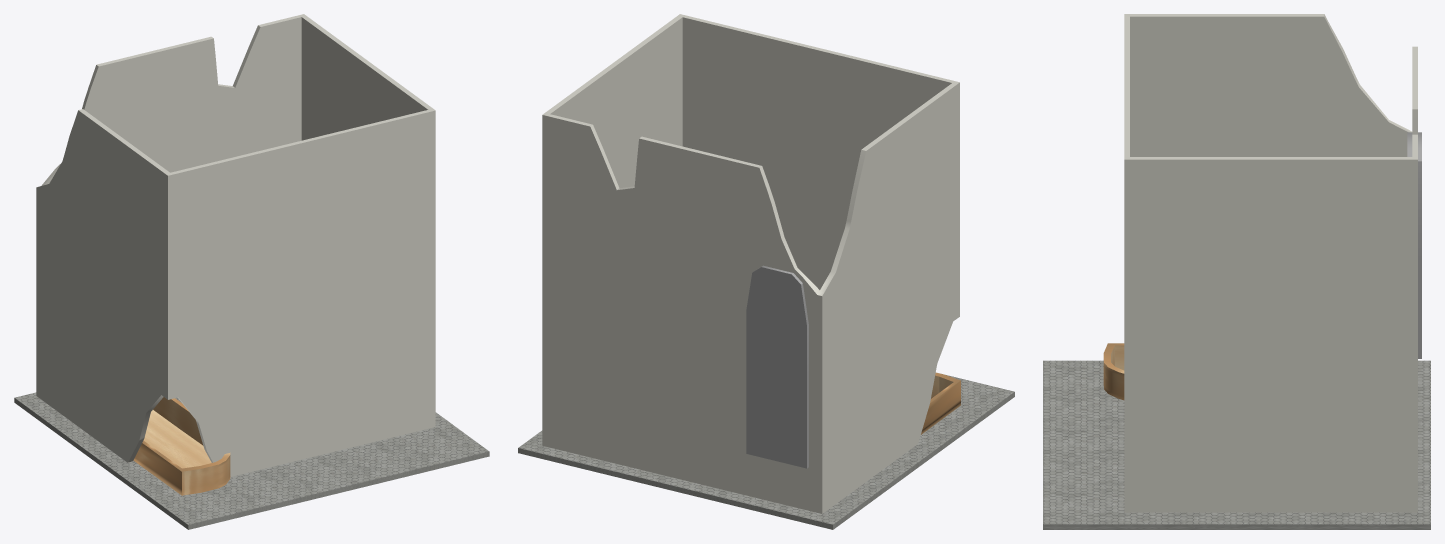
File: Collection_Test1.fbx
The picture shows the model from 3 angles, left to right: view 1: azimuth 30°, elevation 25°; view 2: azimuth 150°, elevation 25°; view 3: azimuth 270°, elevation 25°; orthographic projection. The views are drawn at different scales.
Visible parts, largest first — view 1: Collection_Room, Collection_Ground, pCube5; view 2: Collection_Room, pCube11, Collection_Ground, pCube5; view 3: Collection_Room, Collection_Ground, pCube5, pCube11.
Part boxes in pixels (x1,y1,x2,y2): Collection_Room: [36, 14, 435, 476]; Collection_Ground: [14, 392, 489, 529]; pCube5: [133, 397, 230, 495]; Collection_Room: [542, 14, 959, 513]; pCube11: [746, 265, 808, 468]; Collection_Ground: [518, 374, 1014, 529]; pCube5: [921, 372, 960, 434]; Collection_Room: [1124, 14, 1417, 512]; Collection_Ground: [1043, 360, 1430, 529]; pCube5: [1103, 343, 1124, 400]; pCube11: [1407, 132, 1421, 358].
Size of the model in its own units: 268 by 275 by 268.
